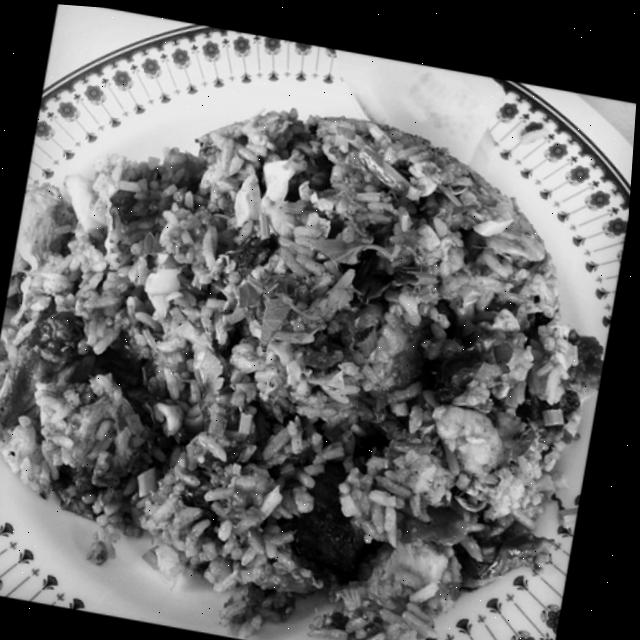米饭主食: (0, 24, 633, 640)
